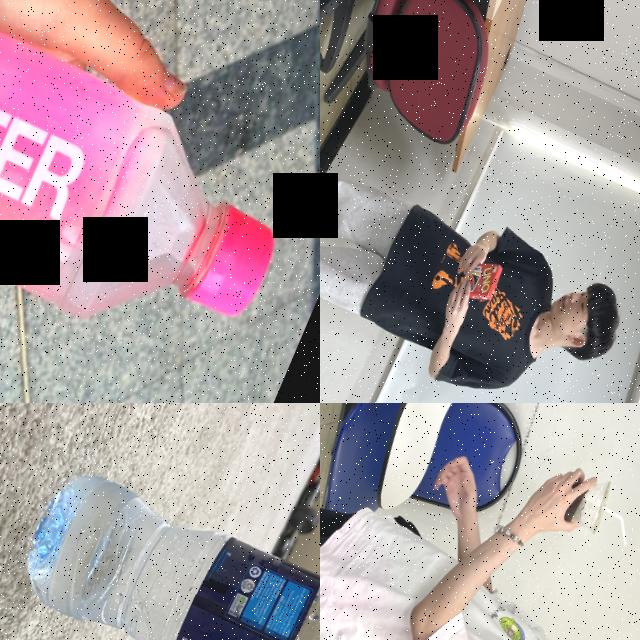bottle: (0, 0, 312, 379), (0, 460, 320, 640)
cup: (556, 466, 618, 536)
